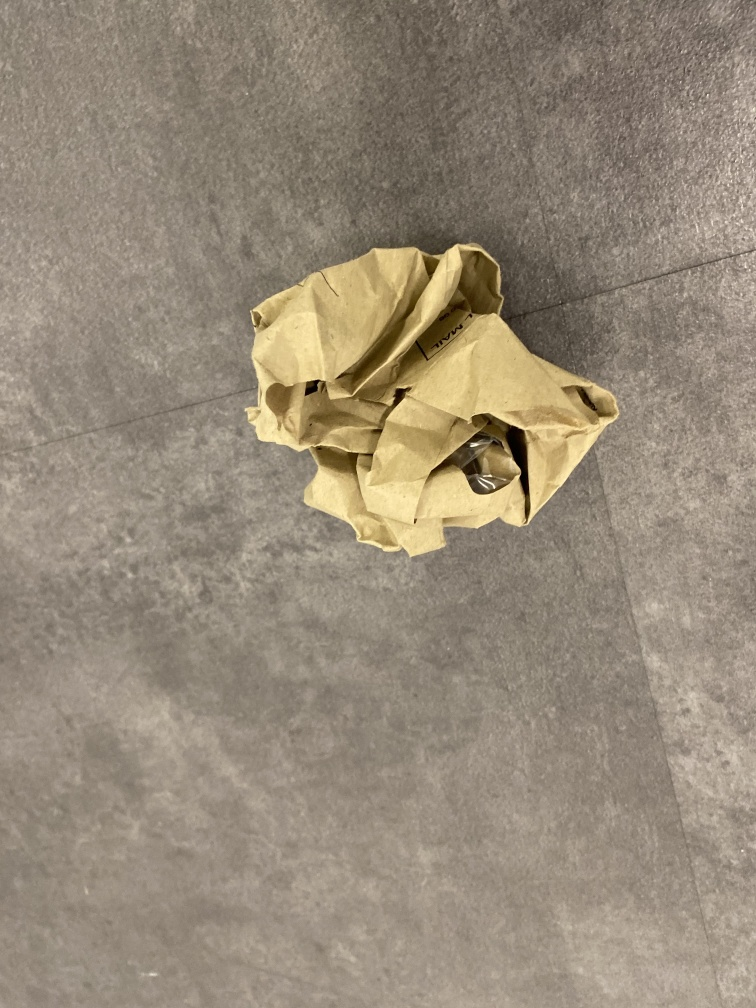paper_brown: (241, 235, 623, 566)
